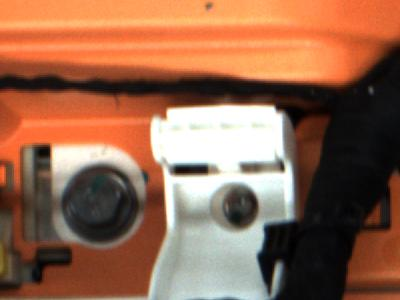nut_b: (58, 160, 136, 241)
